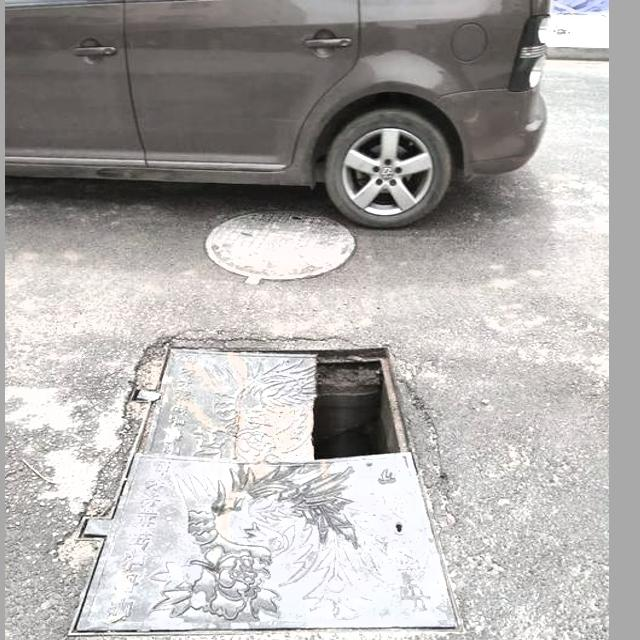broke: (48, 315, 478, 640)
